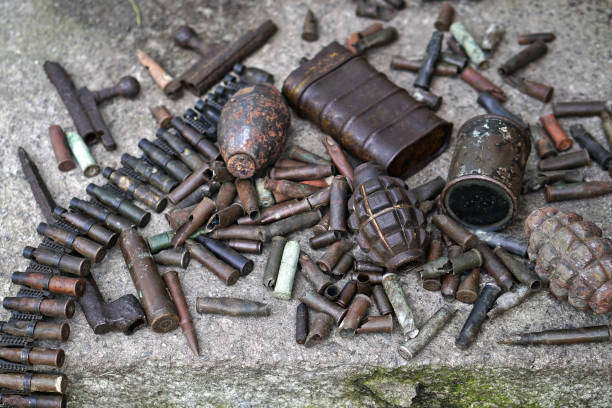e1: (525, 202, 612, 323), (342, 157, 433, 272)
